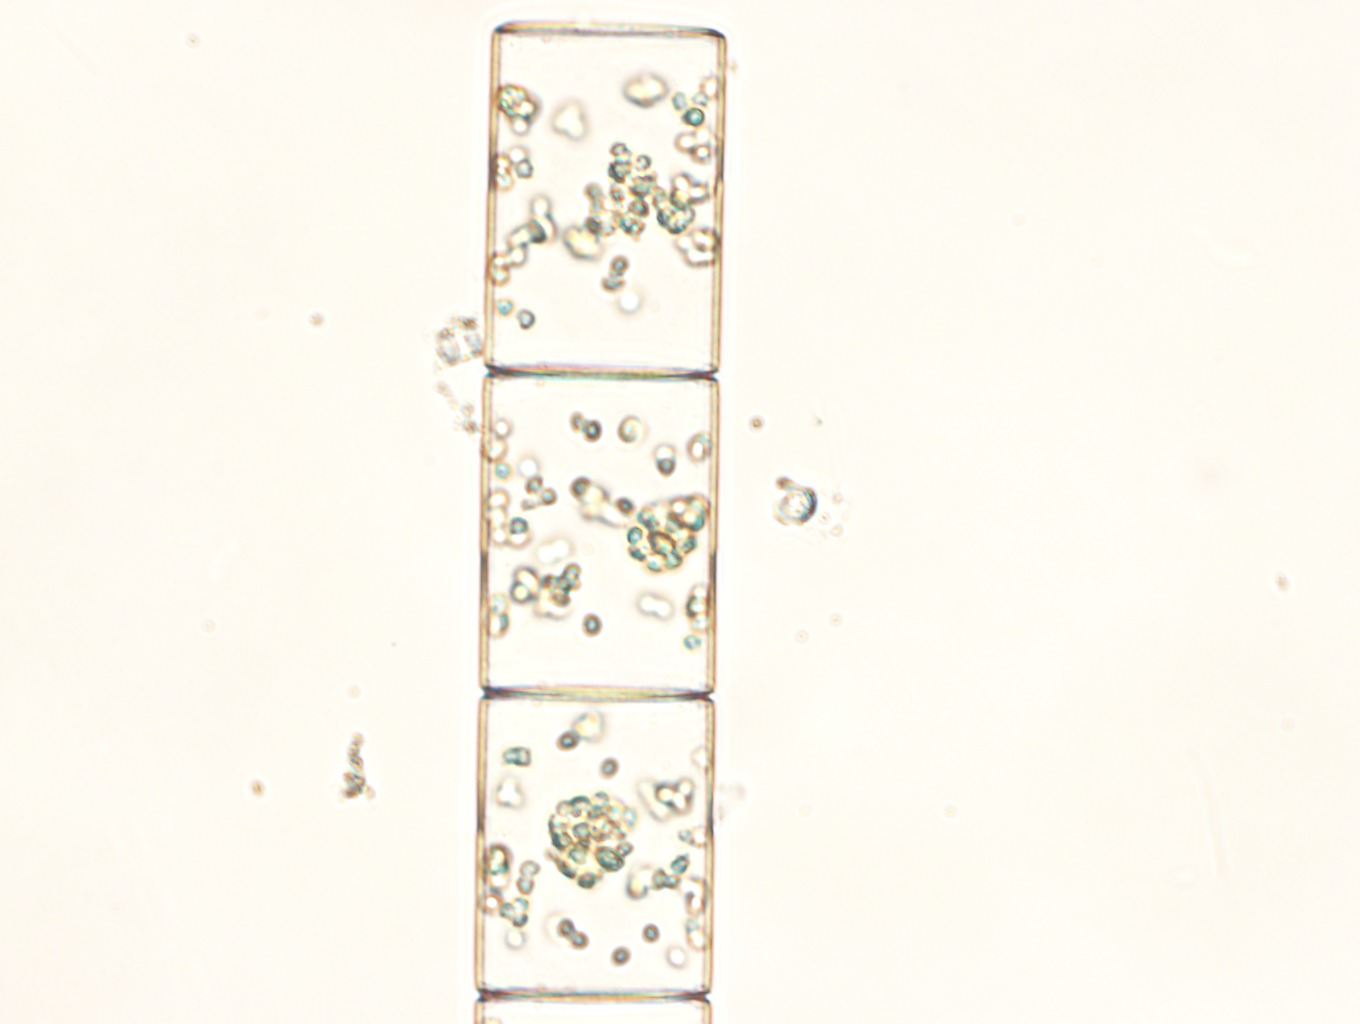guinardia flaccida: (474, 20, 729, 1024)
